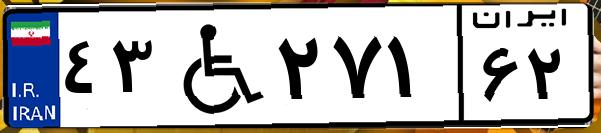1: (385, 28, 445, 110)
2: (270, 28, 330, 110), (525, 38, 570, 115)
3: (110, 28, 158, 98)
4: (57, 26, 110, 100)
6: (475, 38, 525, 113)
7: (330, 28, 385, 110)
ژ (معلولین و جانبازان): (158, 12, 270, 120)
